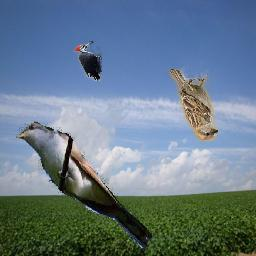Cuckoo: (16, 122, 152, 249)
Sparrow: (170, 69, 219, 141)
Woodpecker: (74, 41, 103, 81)
